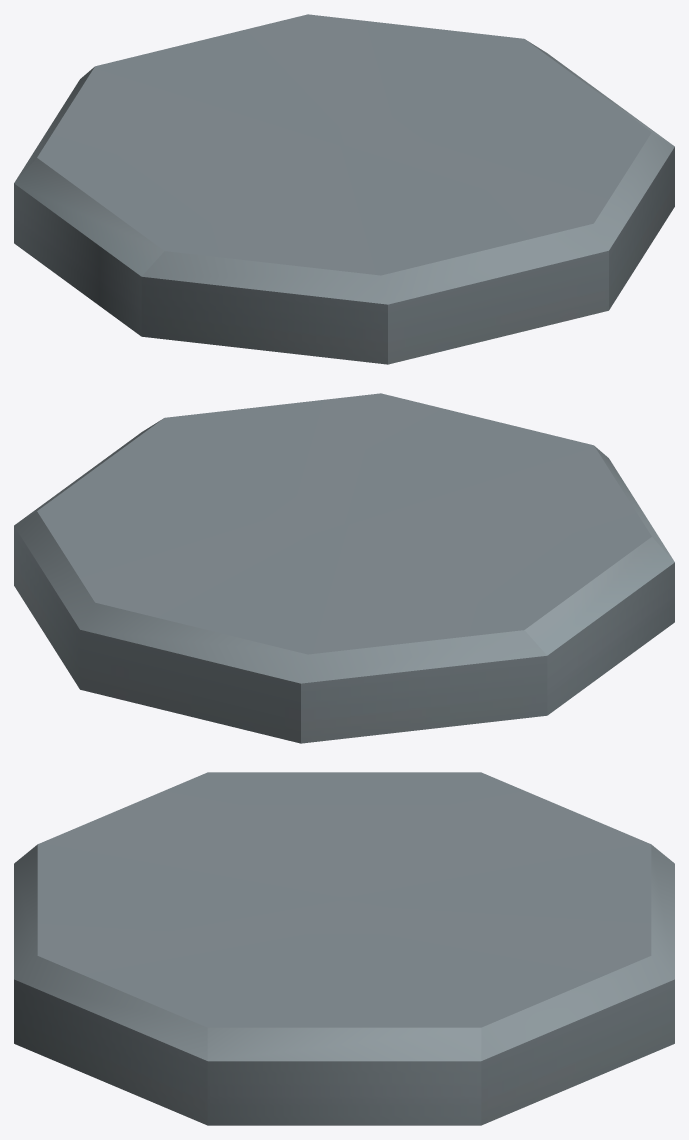
File: kaykit-space-base-bits-roofmodule-base.glb
The picture shows the model from 3 angles, top to bottom: view 1: azimuth 30°, elevation 25°; view 2: azimuth 150°, elevation 25°; view 3: azimuth 270°, elevation 25°; orthographic projection. The views are drawn at different scales.
Visible parts, largest first — view 1: roofmodule_base; view 2: roofmodule_base; view 3: roofmodule_base.
Boxes of the visible parts, x1,y1,x2,y2 form: roofmodule_base: (14,14,674,364); roofmodule_base: (14,393,674,743); roofmodule_base: (14,772,674,1125).
Size of the model in its own units: 1.4 by 0.2 by 1.4.
Materials: 1 (1 with a texture image).
